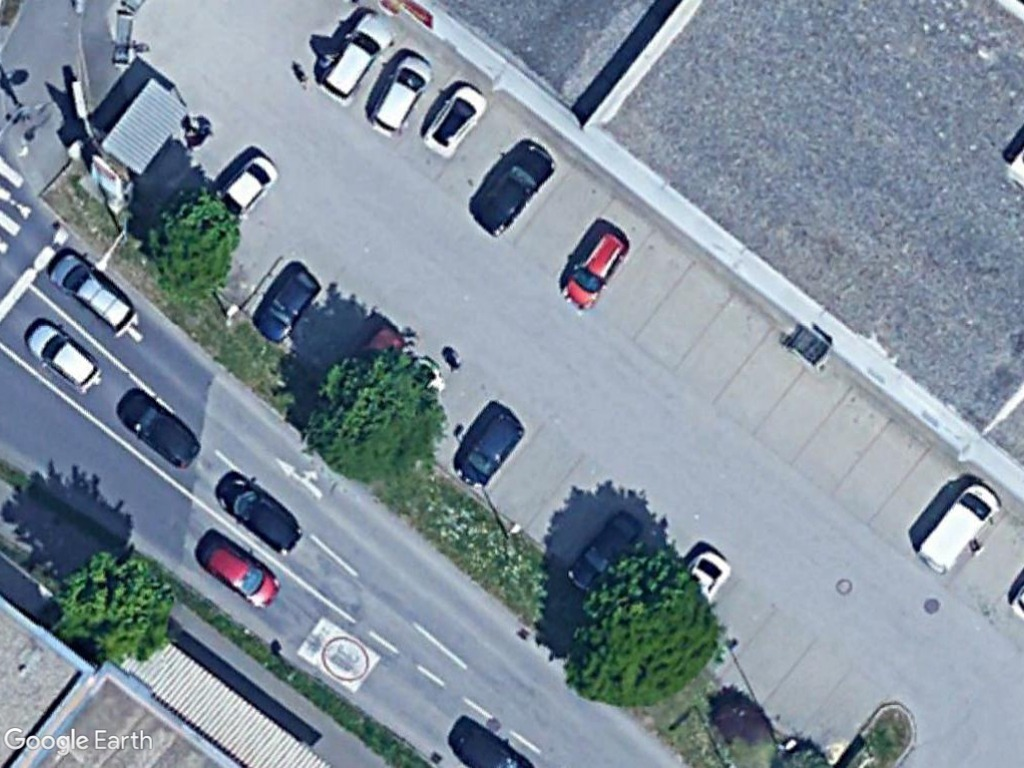car: (469, 142, 562, 238), (48, 251, 141, 343), (214, 471, 303, 558), (318, 10, 396, 103), (116, 390, 202, 473), (24, 318, 102, 398), (450, 410, 525, 492), (561, 228, 634, 312), (198, 541, 281, 613), (368, 55, 438, 138), (420, 80, 489, 162), (250, 264, 322, 342)
van: (912, 484, 1005, 577)
